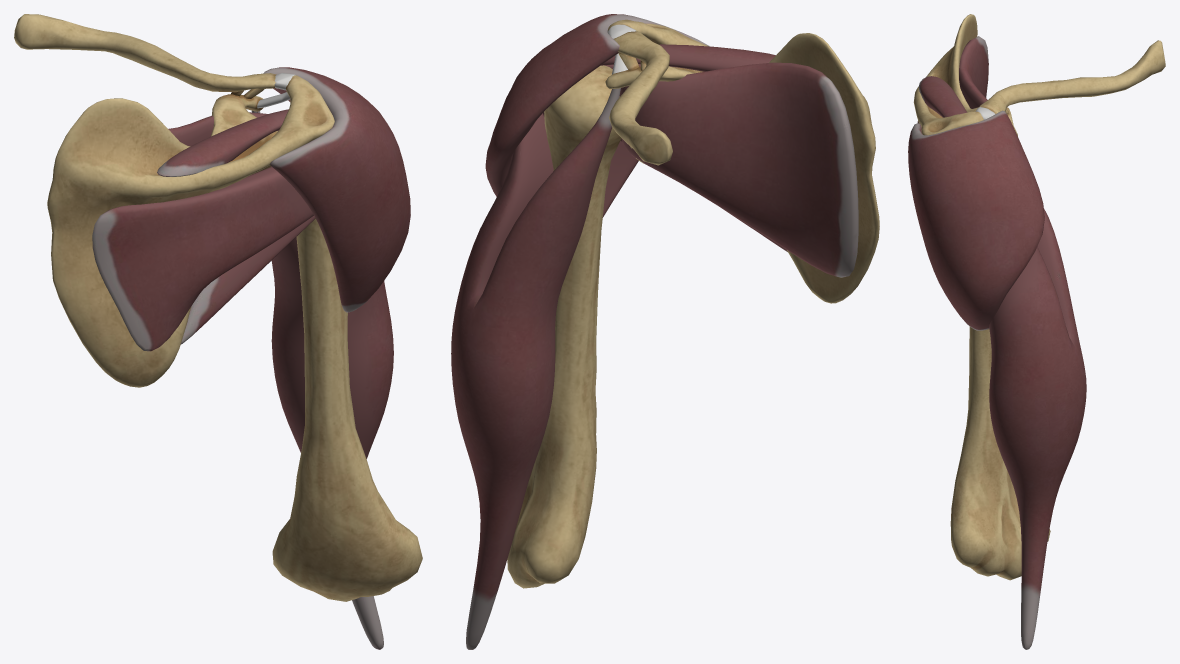
The picture shows the model from 3 angles, left to right: view 1: azimuth 30°, elevation 25°; view 2: azimuth 150°, elevation 25°; view 3: azimuth 270°, elevation 25°; orthographic projection. The views are drawn at different scales.
Visible parts, largest first — view 1: pCube10, polySurface1; view 2: polySurface1, pCube10; view 3: polySurface1, pCube10.
Boxes of the visible parts, box(x1,y1,x2,y2) form: pCube10: box(14, 14, 422, 601); polySurface1: box(92, 67, 410, 649); polySurface1: box(451, 14, 858, 649); pCube10: box(507, 19, 879, 588); polySurface1: box(908, 36, 1086, 649); pCube10: box(913, 14, 1165, 580).
Size of the model in its own units: 0.3135 by 0.523 by 0.2373.
Materials: 2 (2 with a texture image).
